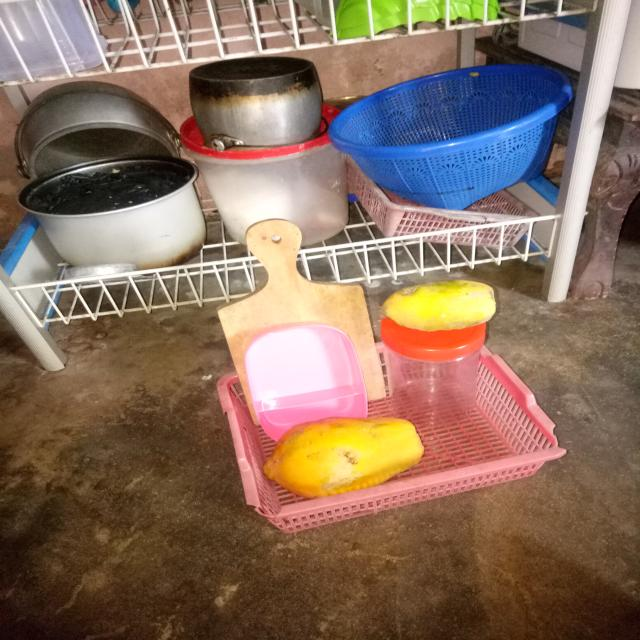Pepaya rippen: (258, 416, 422, 490), (383, 278, 504, 332)
